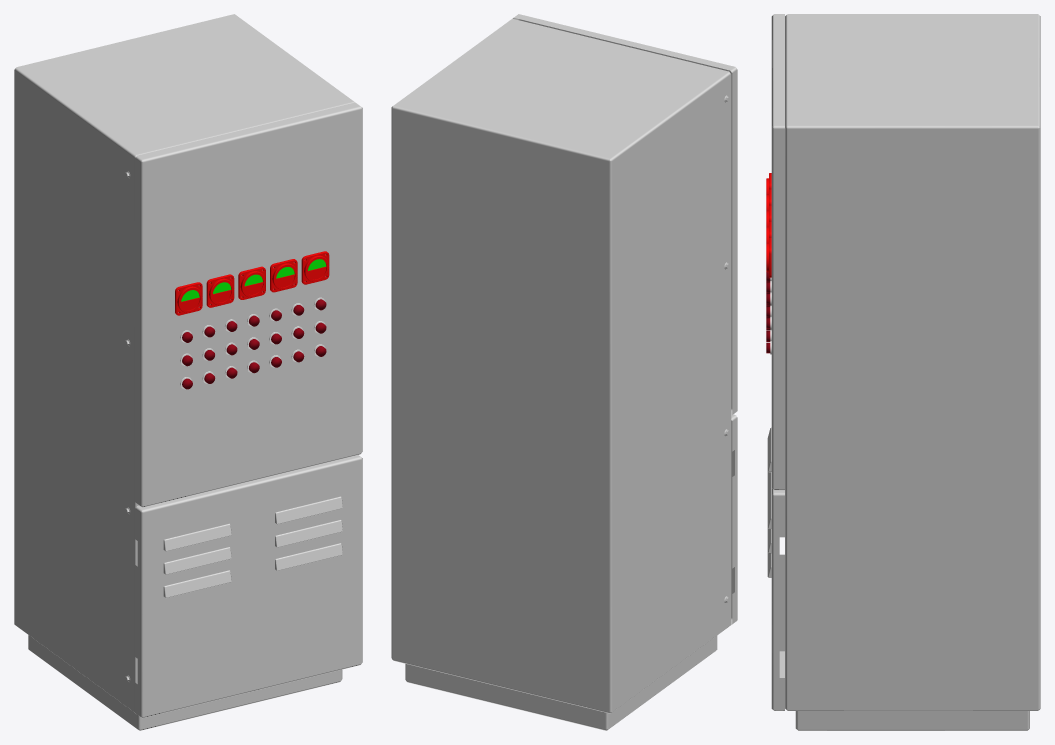
File: ControlBox.fbx
3 renders of one model, left to right at view 1: azimuth 30°, elevation 25°; view 2: azimuth 150°, elevation 25°; view 3: azimuth 270°, elevation 25°, orthographic. The views are drawn at different scales.
Parts seen in each view (by area): view 1: ControlBox, ControlBox.001, Cube, Ampermeter, Buttons; view 2: ControlBox, ControlBox.001; view 3: ControlBox, ControlBox.001, Cube, Ampermeter, Buttons.
Boxes of the visible parts, x1,y1,x2,y2 form: ControlBox: (14,14,362,730); ControlBox.001: (135,455,362,718); Cube: (163,496,342,597); Ampermeter: (175,251,329,315); Buttons: (180,297,326,389); ControlBox: (391,14,737,730); ControlBox.001: (731,414,737,624); ControlBox: (771,14,1040,730); ControlBox.001: (771,488,784,710); Cube: (767,427,771,577); Ampermeter: (766,173,771,277); Buttons: (766,272,771,354).
Bounding box in the file's own units: 1.01 × 2.5 × 1.02.
